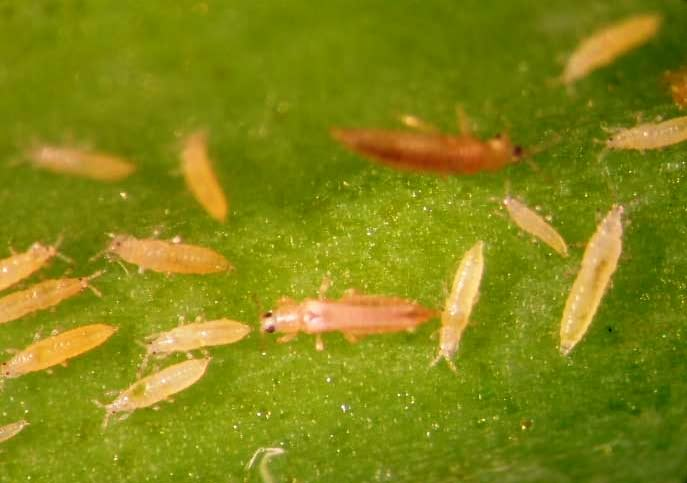Thrips: (345, 89, 525, 192), (554, 204, 642, 360), (102, 223, 260, 307), (258, 291, 431, 366), (428, 232, 499, 382), (113, 351, 218, 431), (8, 321, 115, 377)
